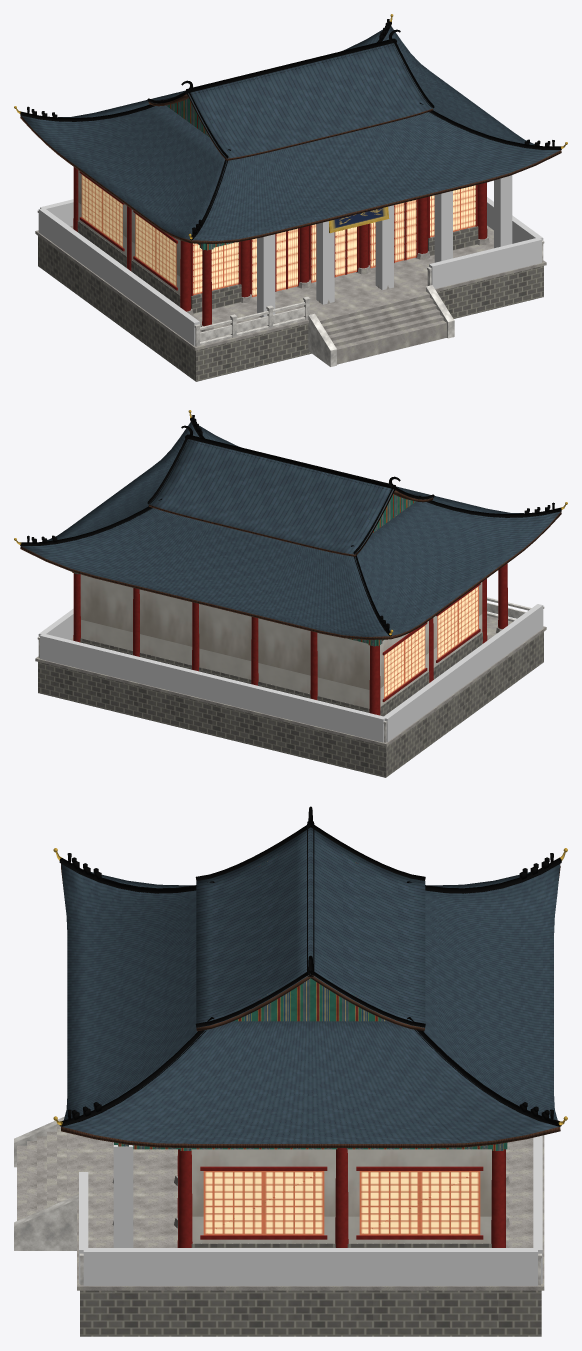
File: academy_hall.glb
The picture shows the model from 3 angles, top to bottom: view 1: azimuth 30°, elevation 25°; view 2: azimuth 150°, elevation 25°; view 3: azimuth 270°, elevation 25°; orthographic projection. The views are drawn at different scales.
Visible parts, largest first — view 1: AcademyLowerRoof, AcademyGable, AcademyPodiumBase, AcademyLattice, AcademyPodiumCap, AcademyStairsfront, AcademyColumns, AcademyRail-convcolonly.004, AcademyRail-convcolonly.001, AcademyFrames, AcademyDado, AcademyBalustrade (+14 smaller); view 2: AcademyLowerRoof, AcademyWalls, AcademyGable, AcademyPodiumBase, AcademyRail-convcolonly.003, AcademyColumns, AcademyRail-convcolonly.004, AcademyLattice, AcademyDado, AcademyPodiumCap, AcademyGableRidge, AcademyLowerRoofRidges (+4 smaller); view 3: AcademyLowerRoof, AcademyGable, AcademyPodiumBase, AcademyRail-convcolonly.002, AcademyLattice, AcademyPodiumCap, AcademyWalls, AcademyStairsfront, AcademyColumns, AcademyLowerRoofRidges, AcademyGableFace, AcademyCheeksfront (+8 smaller).
Part boxes in pixels (bbox=[...]): AcademyLowerRoof: bbox=[20, 26, 561, 243]; AcademyGable: bbox=[148, 43, 433, 160]; AcademyPodiumBase: bbox=[38, 236, 543, 381]; AcademyLattice: bbox=[81, 174, 475, 297]; AcademyPodiumCap: bbox=[35, 225, 546, 350]; AcademyStairsfront: bbox=[318, 291, 446, 364]; AcademyColumns: bbox=[73, 167, 487, 326]; AcademyRail-convcolonly.004: bbox=[38, 208, 199, 346]; AcademyRail-convcolonly.001: bbox=[429, 238, 541, 288]; AcademyFrames: bbox=[79, 171, 477, 296]; AcademyDado: bbox=[77, 221, 478, 313]; AcademyBalustrade: bbox=[37, 210, 544, 346]; AcademyLowerRoof: bbox=[20, 422, 561, 639]; AcademyWalls: bbox=[80, 574, 482, 708]; AcademyGable: bbox=[148, 439, 433, 556]; AcademyPodiumBase: bbox=[38, 632, 543, 777]; AcademyRail-convcolonly.003: bbox=[40, 633, 385, 742]; AcademyColumns: bbox=[73, 563, 507, 715]; AcademyRail-convcolonly.004: bbox=[384, 604, 543, 742]; AcademyLattice: bbox=[384, 586, 478, 698]; AcademyDado: bbox=[80, 632, 482, 716]; AcademyPodiumCap: bbox=[35, 615, 546, 746]; AcademyGableRidge: bbox=[147, 425, 434, 554]; AcademyLowerRoofRidges: bbox=[20, 417, 561, 636]; AcademyLowerRoof: bbox=[61, 863, 560, 1147]; AcademyGable: bbox=[196, 827, 425, 1031]; AcademyPodiumBase: bbox=[80, 1290, 541, 1336]; AcademyRail-convcolonly.002: bbox=[83, 1248, 537, 1285]; AcademyLattice: bbox=[203, 1171, 480, 1235]; AcademyPodiumCap: bbox=[77, 1135, 544, 1290]; AcademyWalls: bbox=[191, 1149, 491, 1243]; AcademyStairsfront: bbox=[17, 1126, 77, 1220]; AcademyColumns: bbox=[177, 1148, 505, 1247]; AcademyLowerRoofRidges: bbox=[59, 858, 561, 1126]; AcademyGableFace: bbox=[233, 857, 387, 1021]; AcademyCheeksfront: bbox=[14, 1116, 78, 1250].
Size of what is drawn, in the model's own units: 20.48 by 11.68 by 17.75.
Materials: 12 (12 with a texture image).
